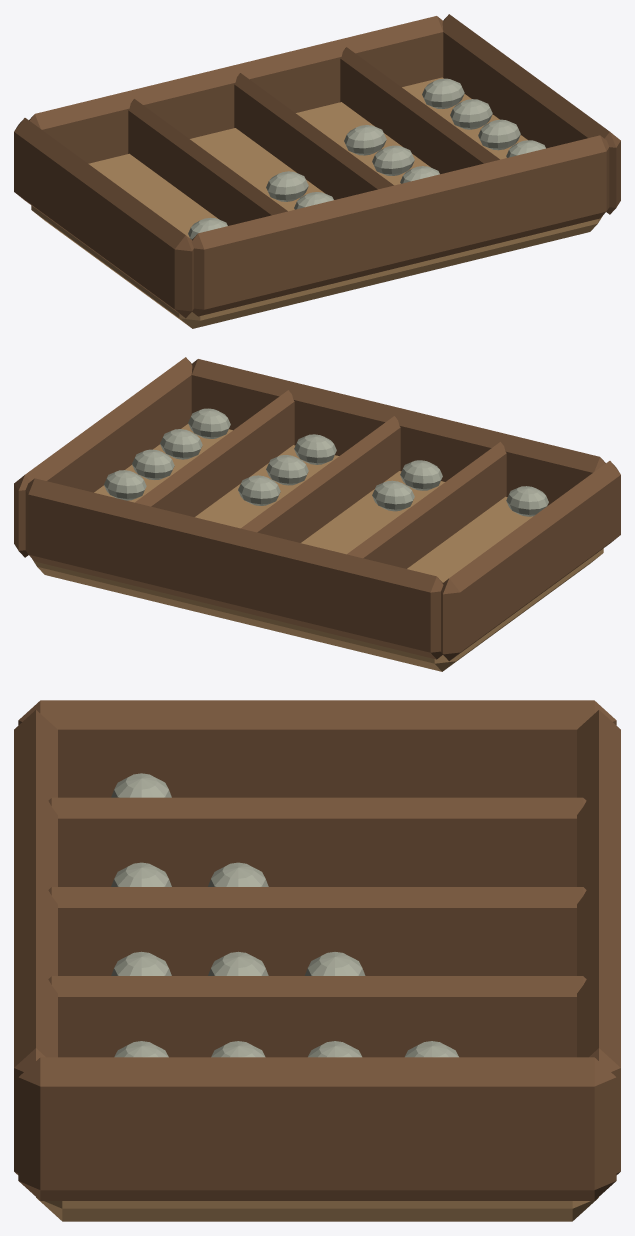
3 renders of one model, top to bottom at view 1: azimuth 30°, elevation 25°; view 2: azimuth 150°, elevation 25°; view 3: azimuth 270°, elevation 25°, orthographic. The views are drawn at different scales.
Parts seen in each view (by area): view 1: BA-0037 batched; view 2: BA-0037 batched; view 3: BA-0037 batched.
Part boxes in pixels (<box>): BA-0037 batched: <box>14,14,620,328</box>; BA-0037 batched: <box>14,357,620,671</box>; BA-0037 batched: <box>14,700,620,1221</box>.
Size of the model in its own units: 0.505 by 0.11 by 0.345.
